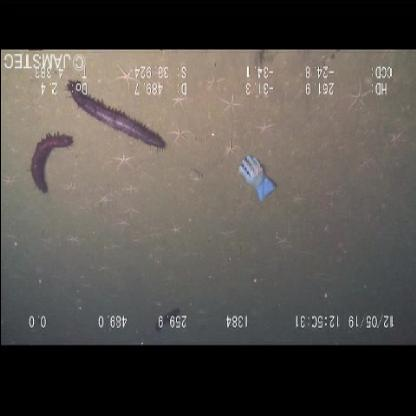Bio: (67, 75, 170, 153), (27, 127, 74, 198)
Rác: (234, 147, 281, 207)
